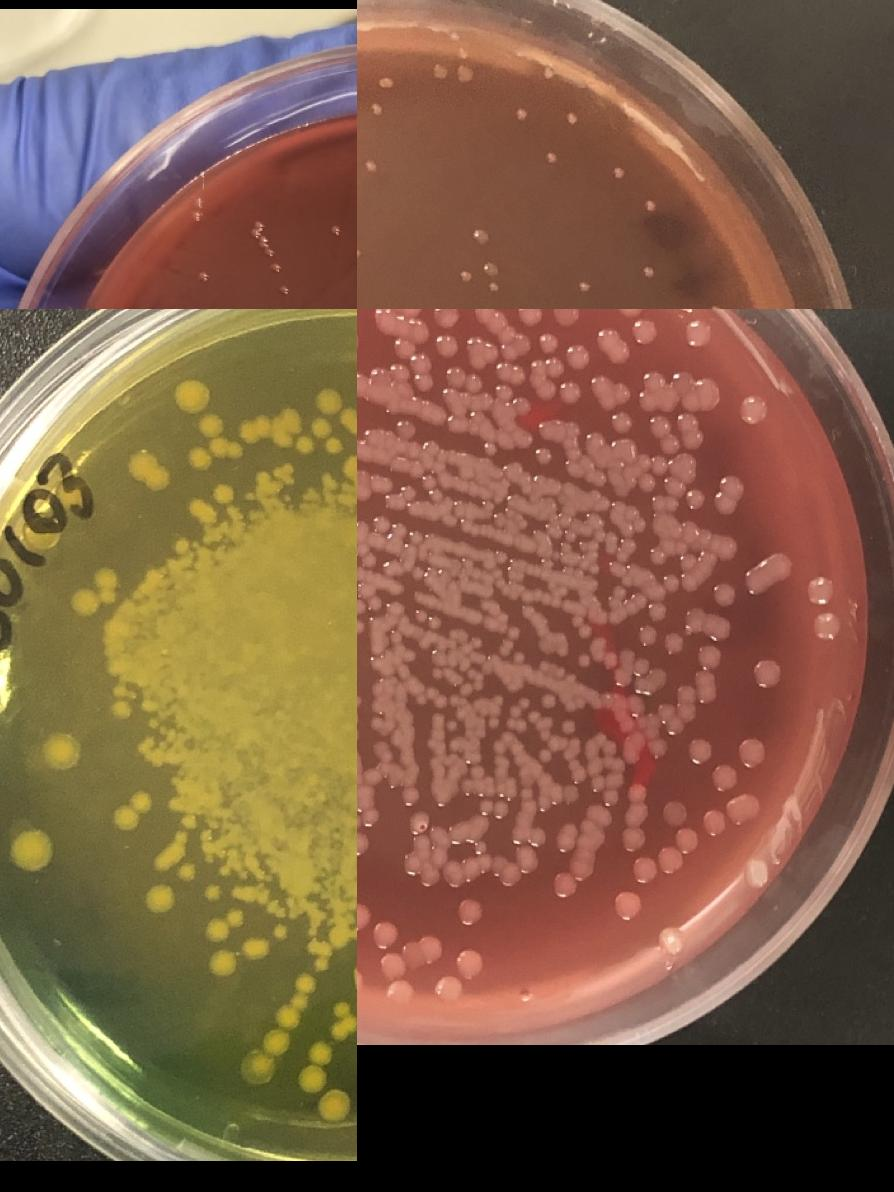assalmonicida: (250, 222, 264, 238)
pdpiscicida: (478, 261, 496, 275), (362, 159, 379, 173), (432, 66, 448, 80), (472, 229, 488, 243), (512, 109, 528, 123), (538, 64, 554, 78), (640, 266, 656, 280), (541, 152, 558, 165), (641, 198, 658, 211), (370, 104, 385, 118), (457, 67, 472, 81), (565, 113, 580, 127), (486, 281, 500, 295), (578, 280, 592, 294), (610, 166, 624, 180), (375, 76, 390, 88), (457, 270, 472, 282), (357, 246, 362, 259), (706, 306, 723, 309)
vharveyi: (632, 826, 700, 883), (380, 936, 443, 982), (584, 737, 624, 808), (676, 646, 721, 704), (187, 415, 228, 470), (276, 973, 313, 1030), (297, 1042, 330, 1092), (11, 831, 51, 872), (405, 806, 446, 844), (357, 810, 381, 870), (748, 557, 788, 592), (207, 906, 244, 942), (503, 696, 540, 732), (310, 418, 345, 456), (595, 327, 630, 364), (711, 475, 744, 514), (45, 734, 77, 770), (329, 999, 357, 1040), (656, 704, 694, 734), (373, 309, 419, 332), (176, 380, 207, 414), (650, 417, 678, 454), (497, 328, 528, 361), (152, 841, 186, 871), (237, 417, 274, 444), (556, 378, 586, 408), (468, 342, 497, 371), (589, 636, 617, 666), (677, 415, 701, 448), (70, 588, 98, 616), (113, 802, 141, 830), (127, 453, 155, 481), (148, 887, 176, 915), (209, 952, 237, 980), (244, 1054, 272, 1082), (260, 1028, 288, 1056), (320, 1092, 348, 1120), (564, 344, 592, 372), (314, 384, 341, 412), (648, 576, 677, 602), (474, 798, 508, 820), (624, 786, 644, 823), (456, 950, 483, 977), (386, 984, 414, 1010), (432, 335, 460, 361), (660, 800, 688, 826), (812, 614, 840, 640), (435, 976, 461, 1003), (658, 927, 684, 954), (712, 766, 738, 793), (371, 921, 397, 947), (457, 899, 483, 925), (552, 873, 578, 899), (608, 410, 634, 436), (616, 892, 642, 918), (619, 826, 645, 852), (631, 320, 657, 346), (660, 630, 686, 656), (684, 320, 710, 346), (686, 740, 712, 766), (701, 810, 727, 836), (712, 582, 738, 608), (727, 796, 753, 822), (738, 740, 764, 766), (740, 398, 766, 424), (754, 661, 780, 687), (808, 579, 834, 605), (606, 585, 628, 612), (496, 364, 524, 385), (431, 309, 460, 328), (550, 309, 579, 328), (652, 494, 680, 513), (280, 409, 304, 431), (94, 566, 116, 588), (176, 864, 198, 886), (200, 882, 222, 904), (243, 937, 265, 959), (268, 920, 290, 942), (293, 434, 315, 456), (227, 474, 250, 495), (517, 309, 543, 327), (186, 496, 207, 517), (338, 407, 357, 429), (396, 486, 418, 504), (357, 371, 371, 399), (357, 903, 372, 929), (637, 626, 656, 646), (684, 491, 703, 511), (362, 769, 384, 786), (527, 828, 545, 848), (460, 860, 479, 878), (396, 342, 414, 360), (403, 857, 421, 875), (410, 356, 428, 374), (420, 870, 438, 888), (428, 847, 446, 865), (447, 368, 465, 386), (480, 440, 498, 458), (500, 867, 518, 885), (517, 850, 535, 868), (748, 866, 766, 884), (397, 422, 414, 440), (648, 550, 666, 566), (648, 604, 666, 620), (648, 740, 666, 756), (649, 458, 667, 474), (375, 476, 392, 492), (414, 375, 431, 391), (535, 449, 552, 465), (633, 657, 650, 673), (633, 678, 650, 694), (711, 622, 728, 638), (390, 644, 406, 660), (538, 694, 554, 710), (650, 668, 666, 684), (535, 750, 552, 765), (626, 698, 643, 713), (372, 518, 387, 534), (468, 377, 483, 393), (639, 476, 654, 492), (616, 309, 642, 318), (514, 398, 528, 414), (540, 336, 556, 350), (560, 720, 576, 734), (574, 655, 588, 671), (495, 386, 510, 400), (575, 624, 590, 638), (357, 539, 368, 557), (414, 692, 428, 706), (430, 667, 444, 681), (444, 720, 458, 734), (486, 716, 500, 730), (538, 728, 552, 742), (507, 628, 521, 641), (350, 964, 357, 986), (357, 600, 364, 619)
